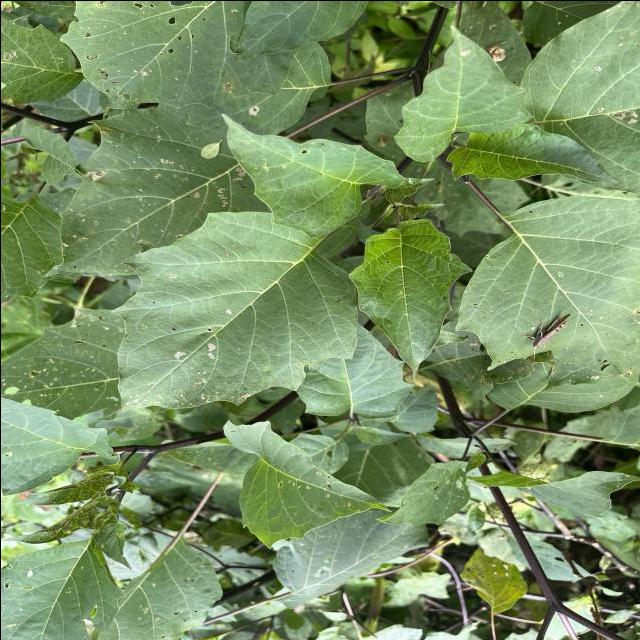Datura metal linn: (108, 208, 360, 414), (216, 109, 406, 238), (220, 416, 395, 552), (344, 216, 474, 384), (391, 20, 536, 164), (444, 120, 626, 188)
